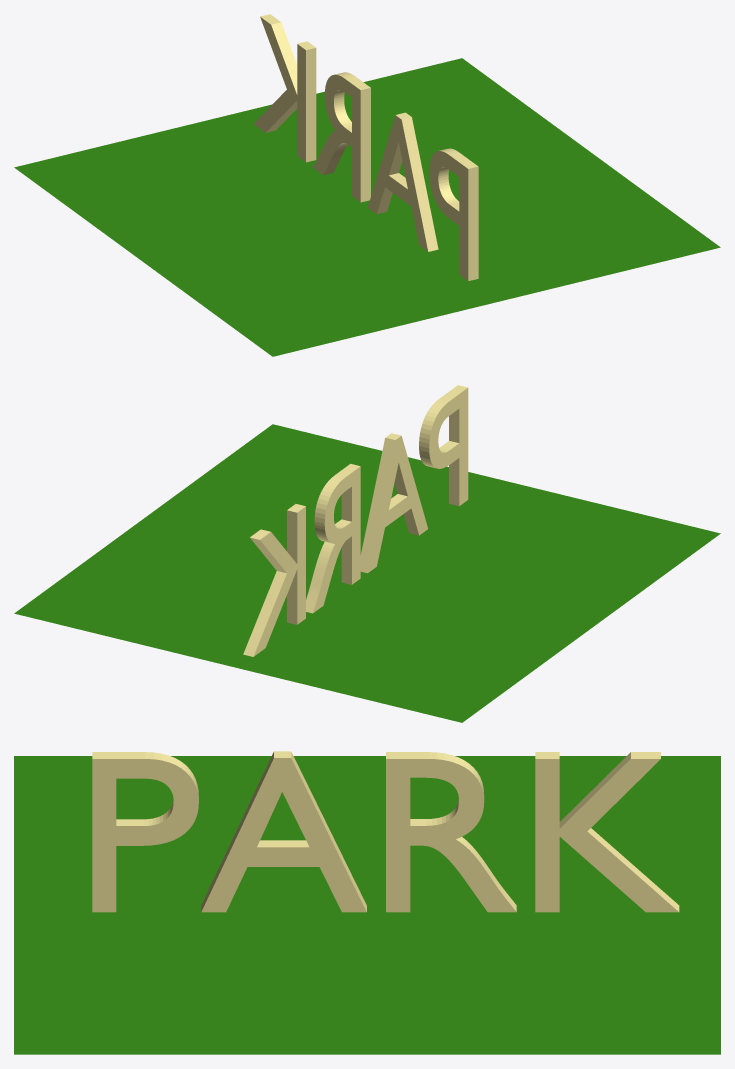
File: park_placeholder.glb
The picture shows the model from 3 angles, top to bottom: view 1: azimuth 30°, elevation 25°; view 2: azimuth 150°, elevation 25°; view 3: azimuth 270°, elevation 25°; orthographic projection. The views are drawn at different scales.
Parts seen in each view (by area): view 1: Plane; view 2: Plane; view 3: Plane.
Boxes of the visible parts, x1,y1,x2,y2 form: Plane: (14, 14, 720, 356); Plane: (14, 385, 720, 722); Plane: (14, 751, 720, 1054).
Bounding box in the file's own units: 20 × 4.81 × 20.
